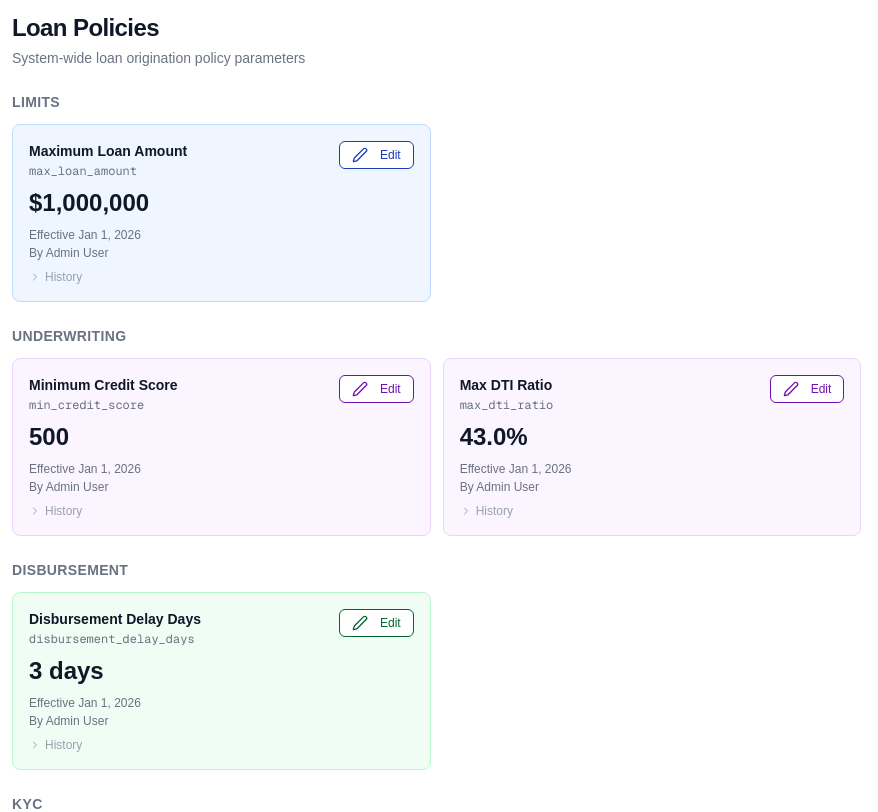
Test: PoliciesPage › edit form › shows edit form when Edit is clicked
Click the button "Edit" next to "Maximum Loan Amount": (376, 155) [339,141,414,169]
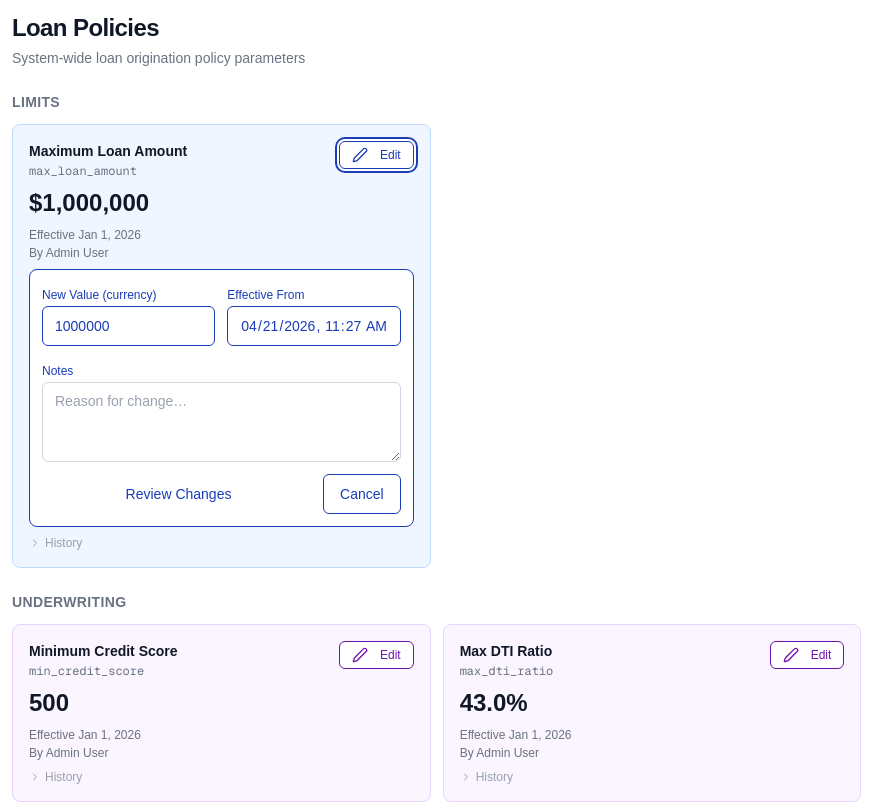
Result: the button "Review Changes" is shown at [42,474,315,514]
